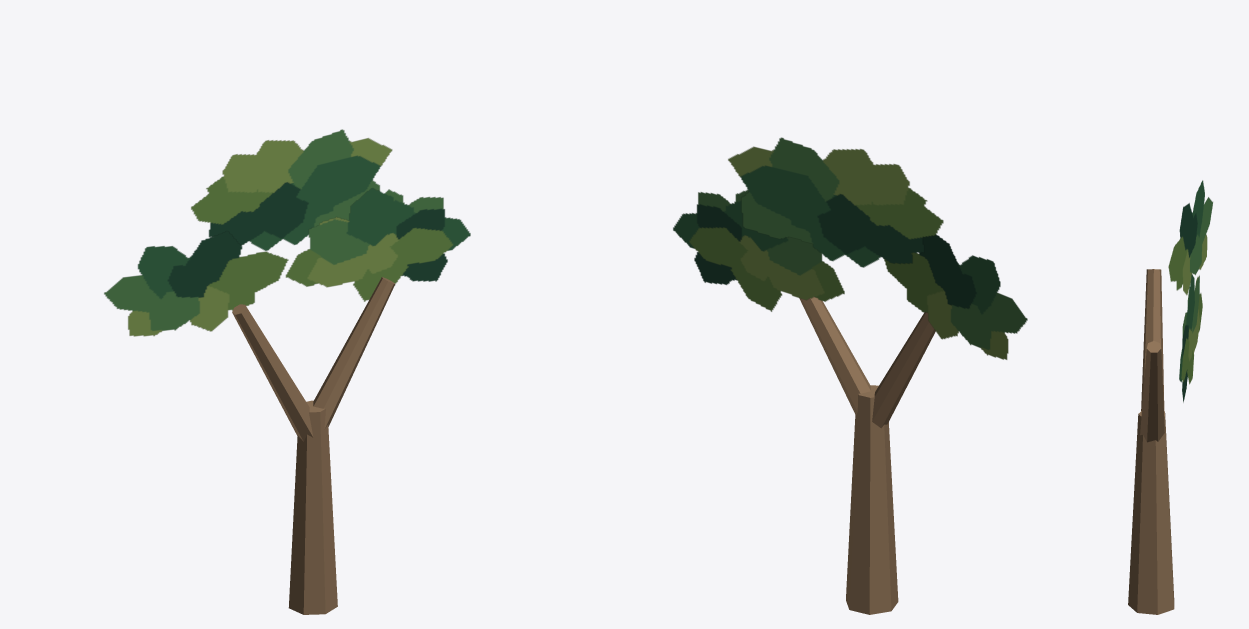
Rendered from TREE_NATIVE_ROUNDED_001_V4_LOD_MAP.glb.
3 views of the same model, side by side, from view 1: azimuth 30°, elevation 25°; view 2: azimuth 150°, elevation 25°; view 3: azimuth 270°, elevation 25° (orthographic). The views are drawn at different scales.
Parts seen in each view (by area): view 1: GG_NATIVE_V4_CLUSTER_02, GG_NATIVE_V4_CLUSTER_01, GG_NATIVE_V4_CLUSTER_00, GG_NATIVE_V4_LOCKED_CARCASS_00, GG_NATIVE_V4_LOCKED_CARCASS_02, GG_NATIVE_V4_LOCKED_CARCASS_01; view 2: GG_NATIVE_V4_CLUSTER_02, GG_NATIVE_V4_CLUSTER_01, GG_NATIVE_V4_CLUSTER_00, GG_NATIVE_V4_LOCKED_CARCASS_00, GG_NATIVE_V4_LOCKED_CARCASS_02, GG_NATIVE_V4_LOCKED_CARCASS_01; view 3: GG_NATIVE_V4_LOCKED_CARCASS_00, GG_NATIVE_V4_CLUSTER_00, GG_NATIVE_V4_LOCKED_CARCASS_02, GG_NATIVE_V4_CLUSTER_01, GG_NATIVE_V4_LOCKED_CARCASS_01.
Boxes of the visible parts, x1,y1,x2,y2 form: GG_NATIVE_V4_CLUSTER_02: [191, 129, 392, 250]; GG_NATIVE_V4_CLUSTER_01: [285, 188, 470, 301]; GG_NATIVE_V4_CLUSTER_00: [104, 231, 288, 336]; GG_NATIVE_V4_LOCKED_CARCASS_00: [288, 400, 337, 614]; GG_NATIVE_V4_LOCKED_CARCASS_02: [313, 277, 395, 428]; GG_NATIVE_V4_LOCKED_CARCASS_01: [232, 304, 313, 441]; GG_NATIVE_V4_CLUSTER_02: [728, 137, 943, 267]; GG_NATIVE_V4_CLUSTER_01: [673, 189, 844, 311]; GG_NATIVE_V4_CLUSTER_00: [883, 234, 1027, 359]; GG_NATIVE_V4_LOCKED_CARCASS_00: [846, 385, 898, 614]; GG_NATIVE_V4_LOCKED_CARCASS_02: [799, 297, 870, 415]; GG_NATIVE_V4_LOCKED_CARCASS_01: [872, 312, 935, 428]; GG_NATIVE_V4_LOCKED_CARCASS_00: [1128, 411, 1174, 614]; GG_NATIVE_V4_CLUSTER_00: [1168, 180, 1212, 295]; GG_NATIVE_V4_LOCKED_CARCASS_02: [1140, 341, 1164, 442]; GG_NATIVE_V4_CLUSTER_01: [1179, 274, 1202, 402]; GG_NATIVE_V4_LOCKED_CARCASS_01: [1141, 269, 1164, 410].
Size of the model in its own units: 7.02 by 6.93 by 1.32.
Materials: 2 (1 with a texture image).
